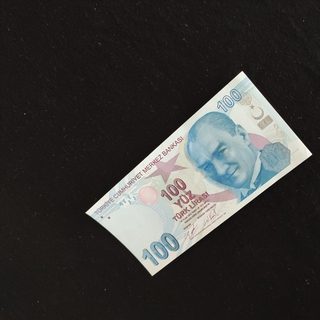100TLFront: (84, 70, 313, 276)
